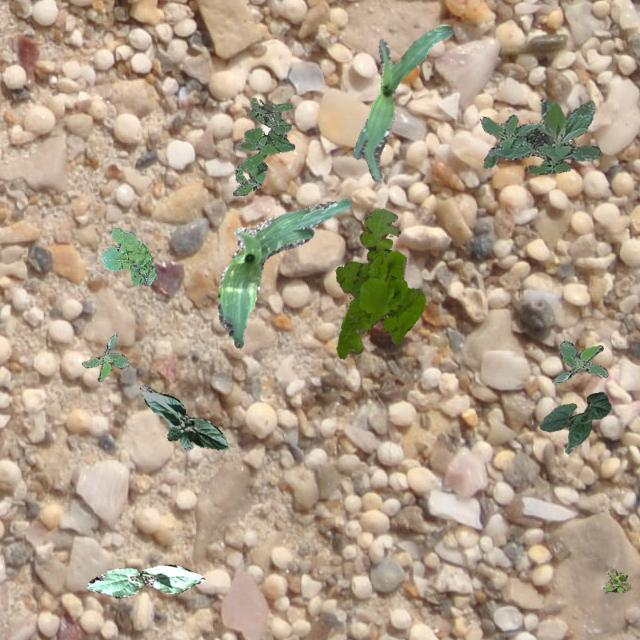crop: (216, 198, 350, 346), (352, 24, 452, 180), (138, 384, 226, 449), (538, 392, 610, 452), (85, 564, 204, 596)
weed: (334, 208, 424, 358), (480, 98, 600, 174), (232, 96, 294, 195), (100, 227, 154, 284), (80, 332, 128, 380), (552, 340, 606, 382), (602, 568, 630, 592)
